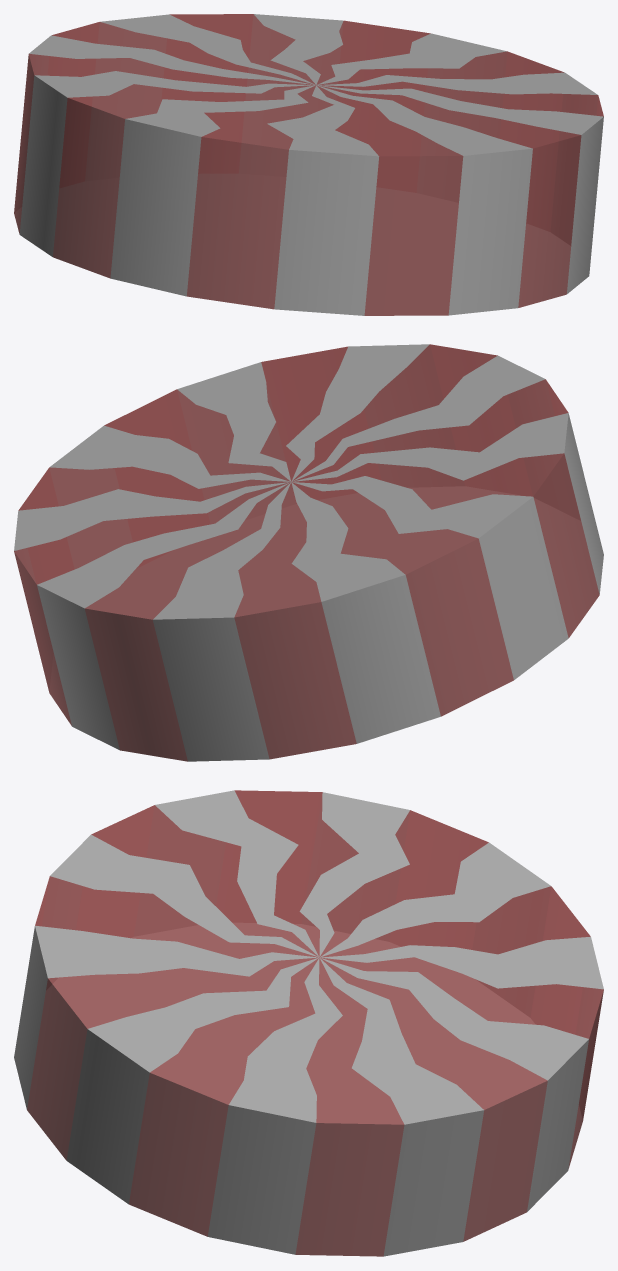
Rendered from CANDY1.fbx.
3 views of the same model, one above another, from view 1: azimuth 30°, elevation 25°; view 2: azimuth 150°, elevation 25°; view 3: azimuth 270°, elevation 25° (orthographic).
Parts seen in each view (by area): view 1: polySurface837; view 2: polySurface837; view 3: polySurface837.
Boxes of the visible parts, <box> form: polySurface837: <box>14,14,603,315</box>; polySurface837: <box>14,344,603,761</box>; polySurface837: <box>14,790,603,1256</box>.
Size of the model in its own units: 2.29 by 1.1 by 2.27.
